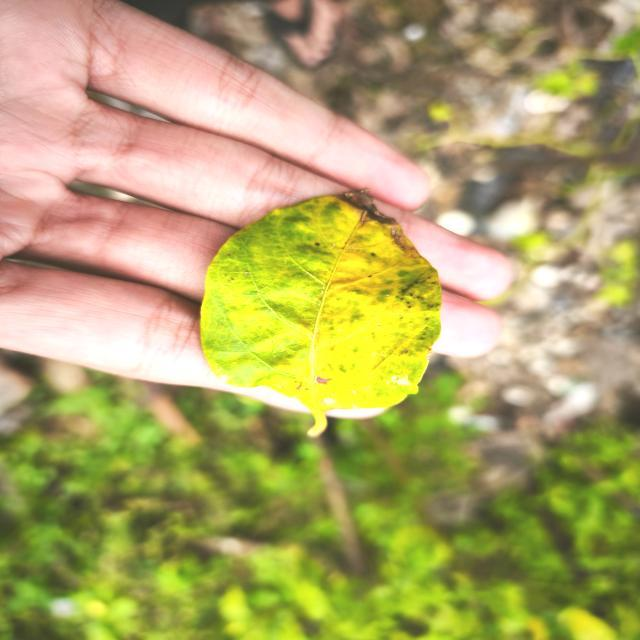Virus Kuning: (198, 188, 443, 438)
